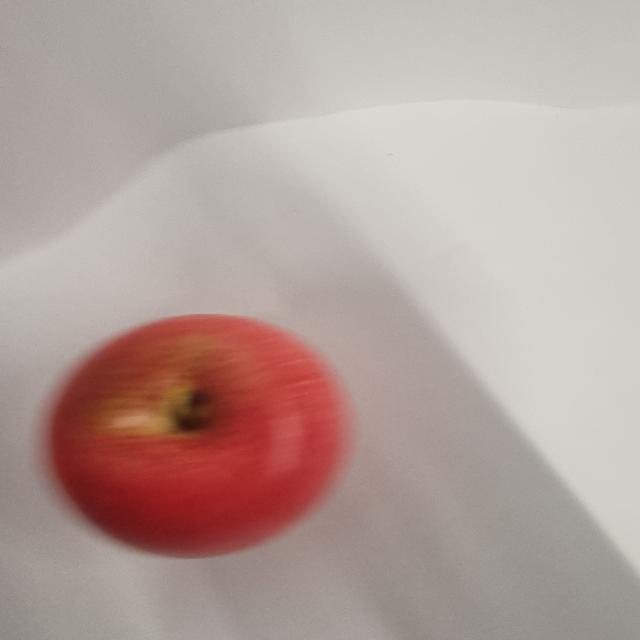apple: (48, 313, 354, 559)
